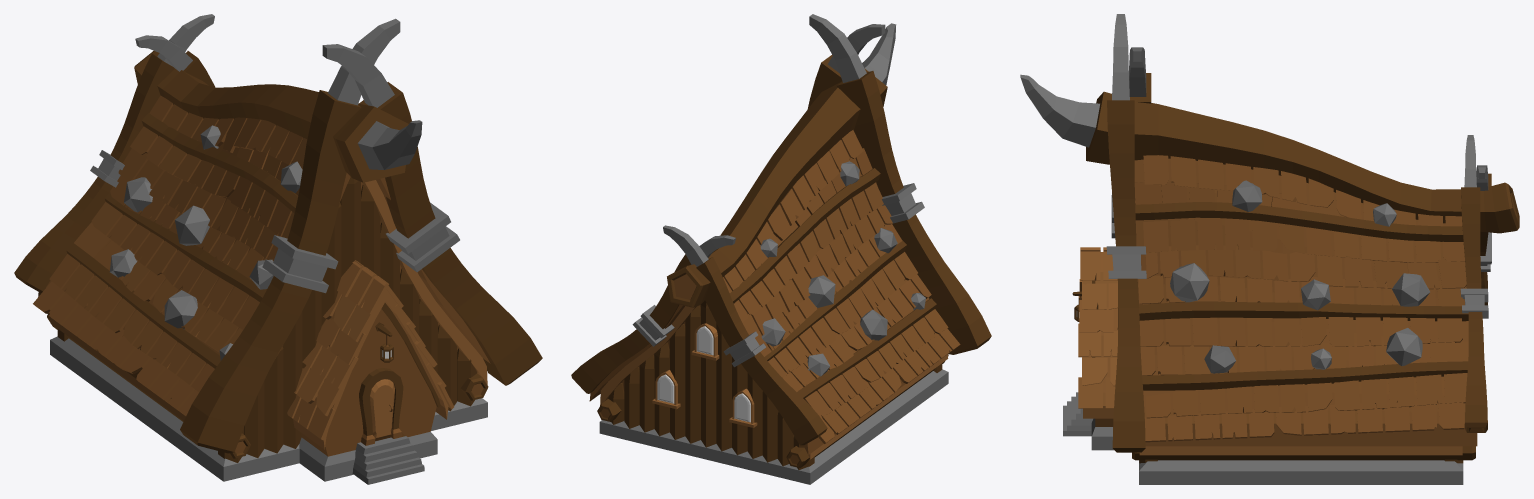
The model's file is B_BaseA.fbx.
3 renders of one model, left to right at view 1: azimuth 30°, elevation 25°; view 2: azimuth 150°, elevation 25°; view 3: azimuth 270°, elevation 25°, orthographic. The views are drawn at different scales.
Visible parts, largest first — view 1: B_BaseA; view 2: B_BaseA; view 3: B_BaseA.
Boxes of the visible parts, box(x1,y1,x2,y2) form: B_BaseA: box(14, 14, 542, 484); B_BaseA: box(571, 14, 991, 484); B_BaseA: box(1020, 14, 1519, 484).
Bounding box in the file's own units: 645 × 750 × 865.
